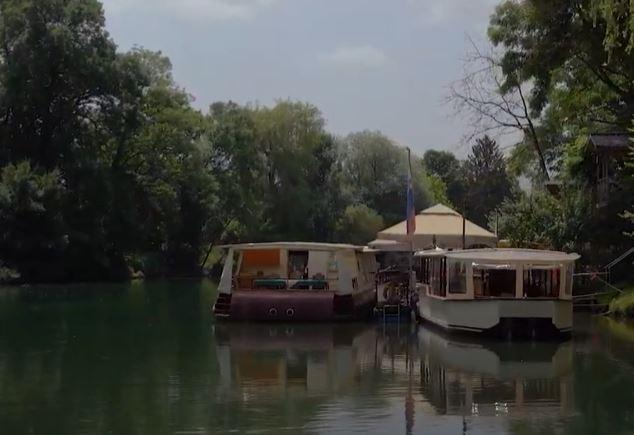Ship: (205, 236, 380, 331)
